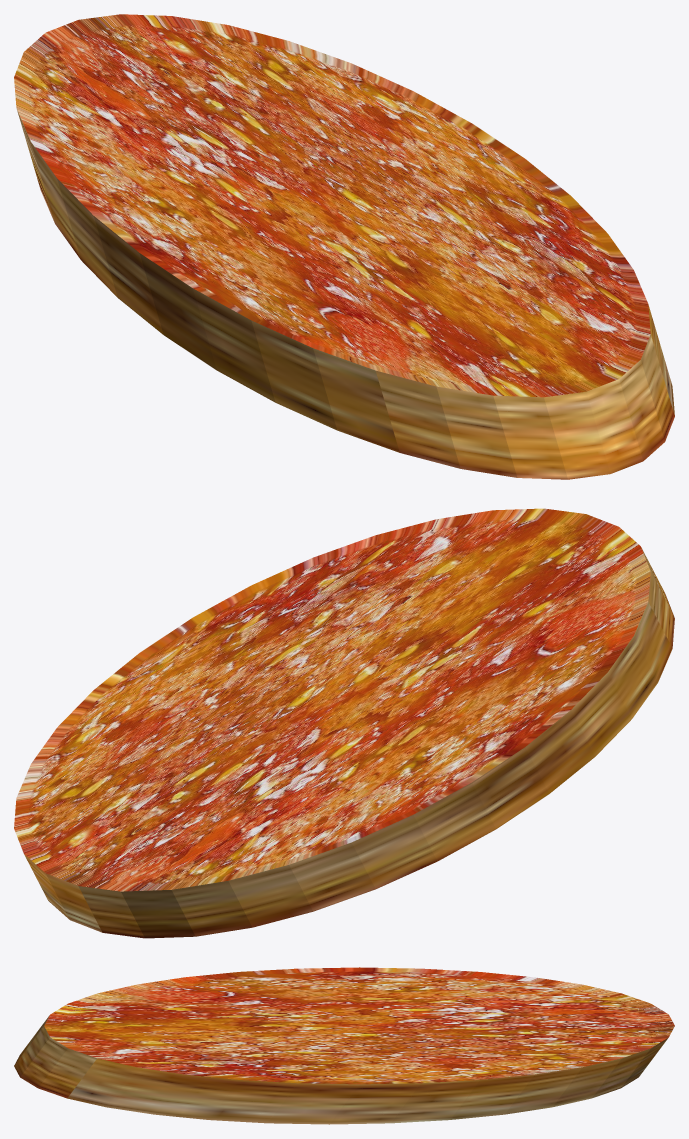
The model's file is tostadaE.glb.
The picture shows the model from 3 angles, top to bottom: view 1: azimuth 30°, elevation 25°; view 2: azimuth 150°, elevation 25°; view 3: azimuth 270°, elevation 25°; orthographic projection. The views are drawn at different scales.
Parts seen in each view (by area): view 1: Cylinder; view 2: Cylinder; view 3: Cylinder.
Boxes of the visible parts, box(x1,y1,x2,y2) form: Cylinder: box(14, 14, 674, 479); Cylinder: box(14, 508, 674, 938); Cylinder: box(14, 967, 674, 1124).
Size of the model in its own units: 3.02 by 0.4829 by 7.21.
1 material, 1 textured.
